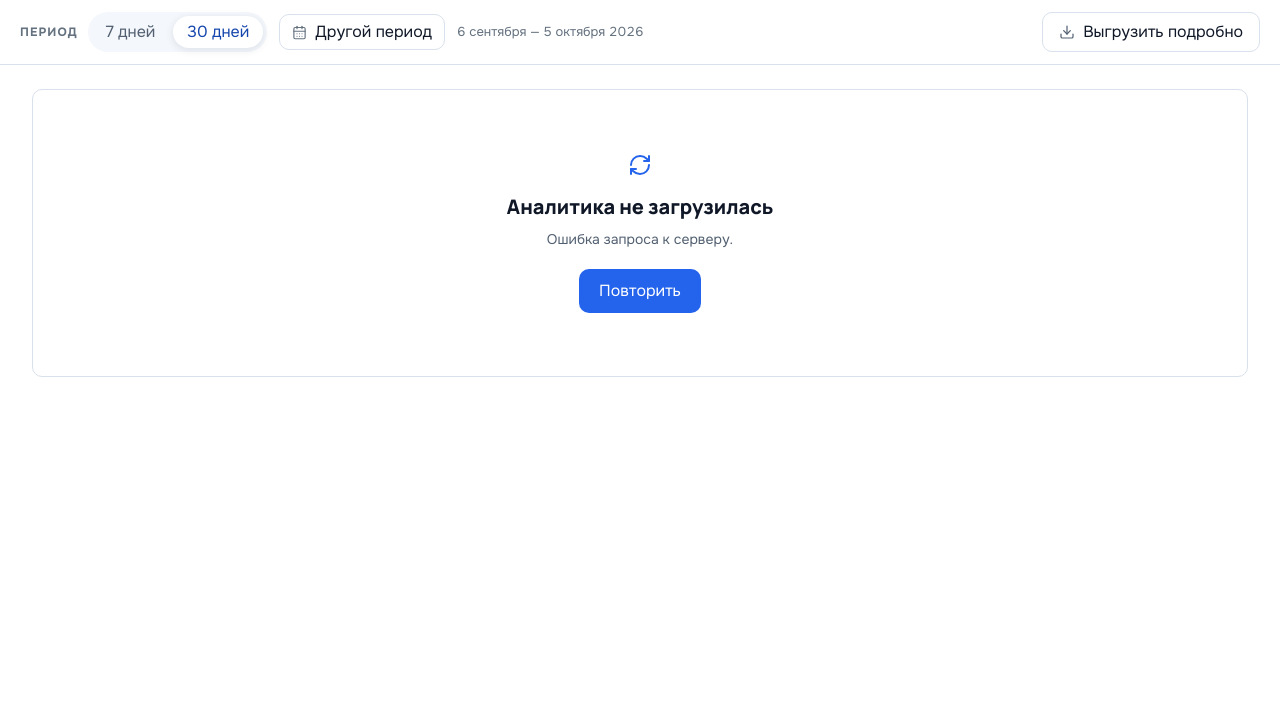
it: AnalyticsPage › retries the live API from the reference error state
Expected: the heading "Аналитика не загрузилась" is shown, 506,193 -> 773,221
Click the button "Повторить" at (640, 291), box 579,269 -> 701,313
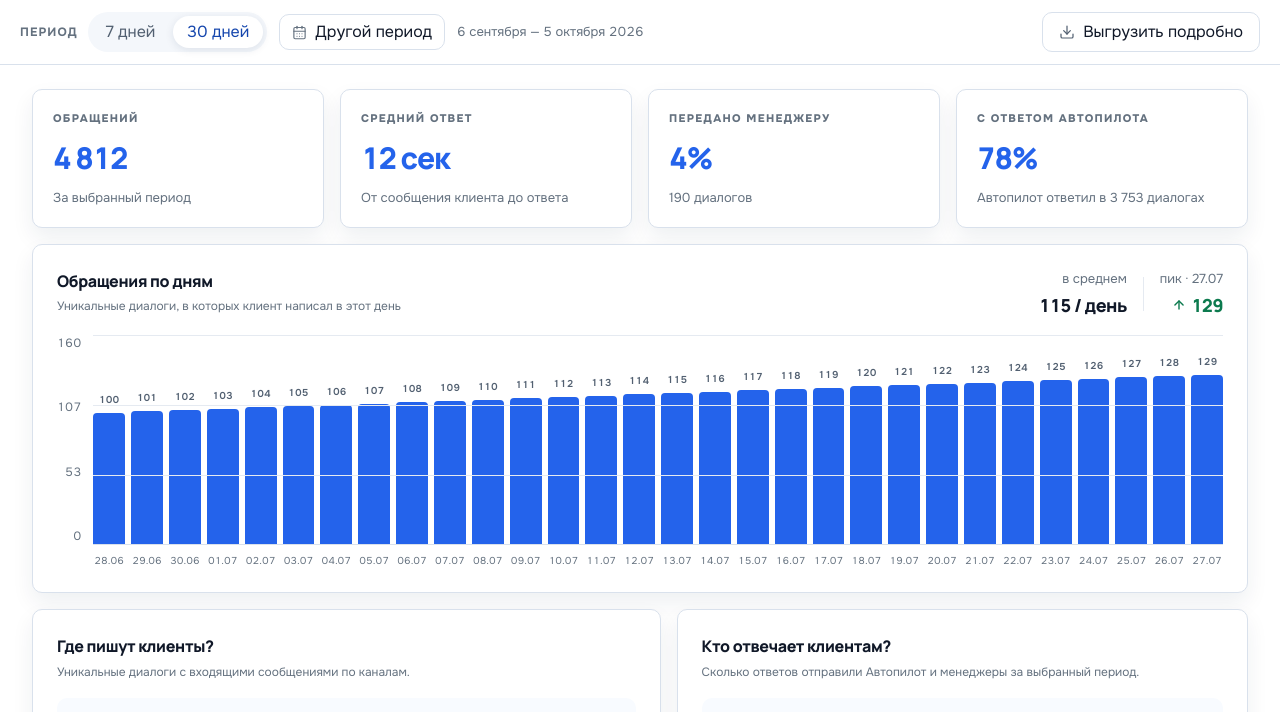
Expected: the text "4 812" is shown, 53,136 -> 127,178
